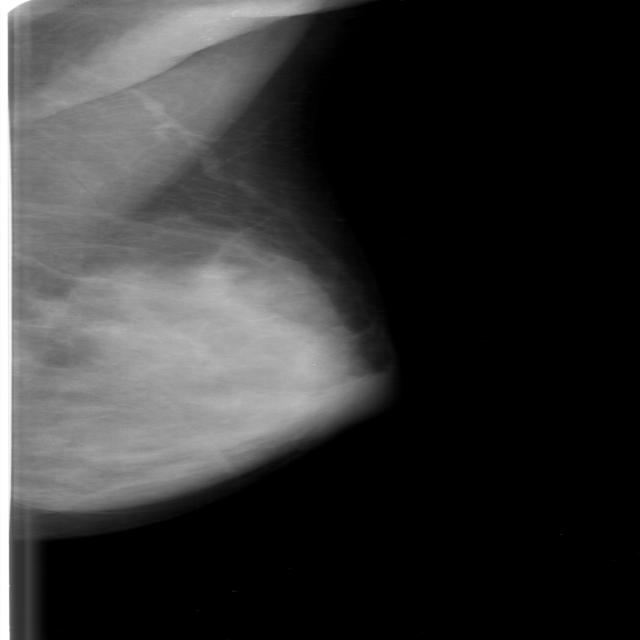cancer: (0, 228, 400, 530)
